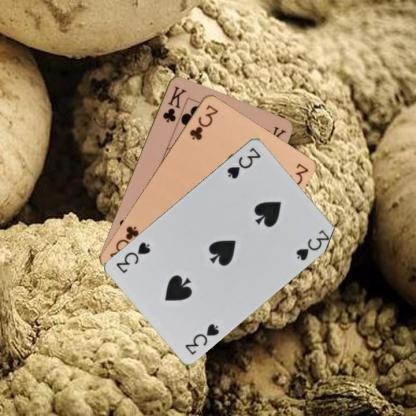3c: (186, 102, 219, 141)
3s: (182, 320, 221, 356), (224, 144, 262, 180)
Kc: (159, 83, 188, 124)
